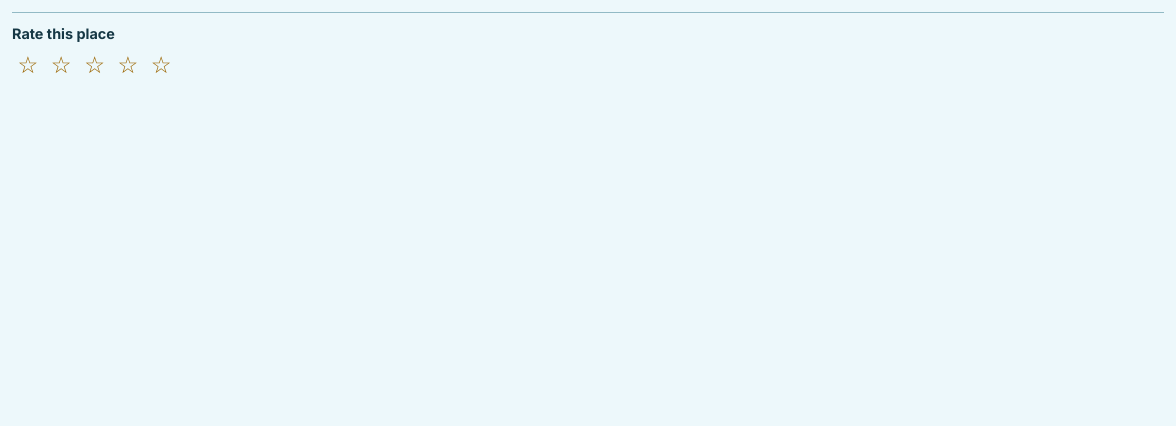
InlineRating › autosaves overall, visually inherits untouched categories, and reveals an optional low-score note
The image size is (1176, 426).
Click the radio button named "2 stars". click: (61, 65)
box: [45,49,77,81]
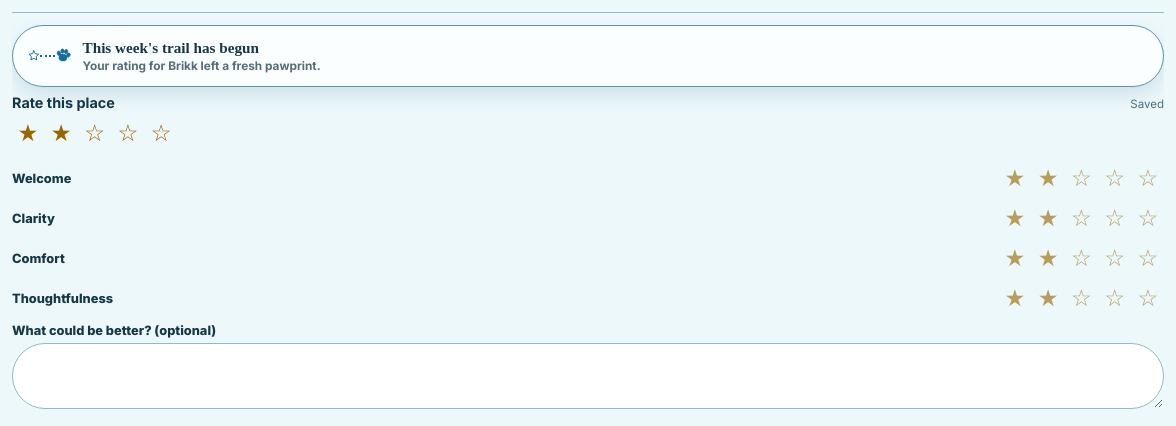
Expected: the text "What could be better? (optional)" is shown, [12,323,216,338]
